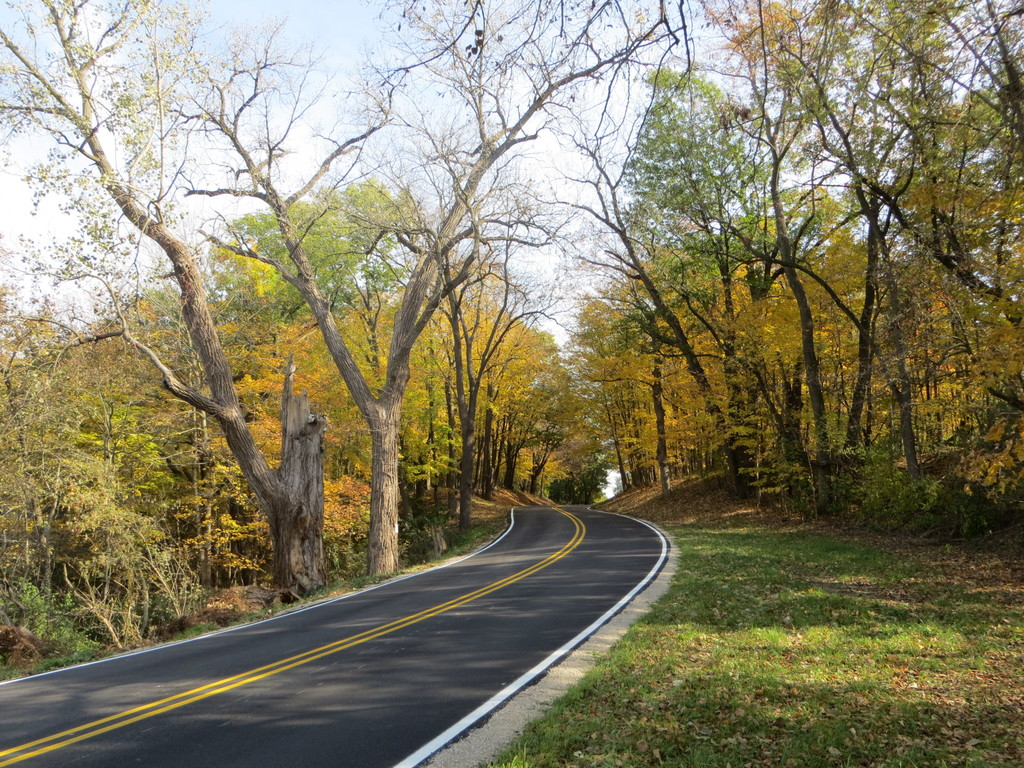Tree: (0, 0, 686, 684), (686, 0, 1023, 545)
